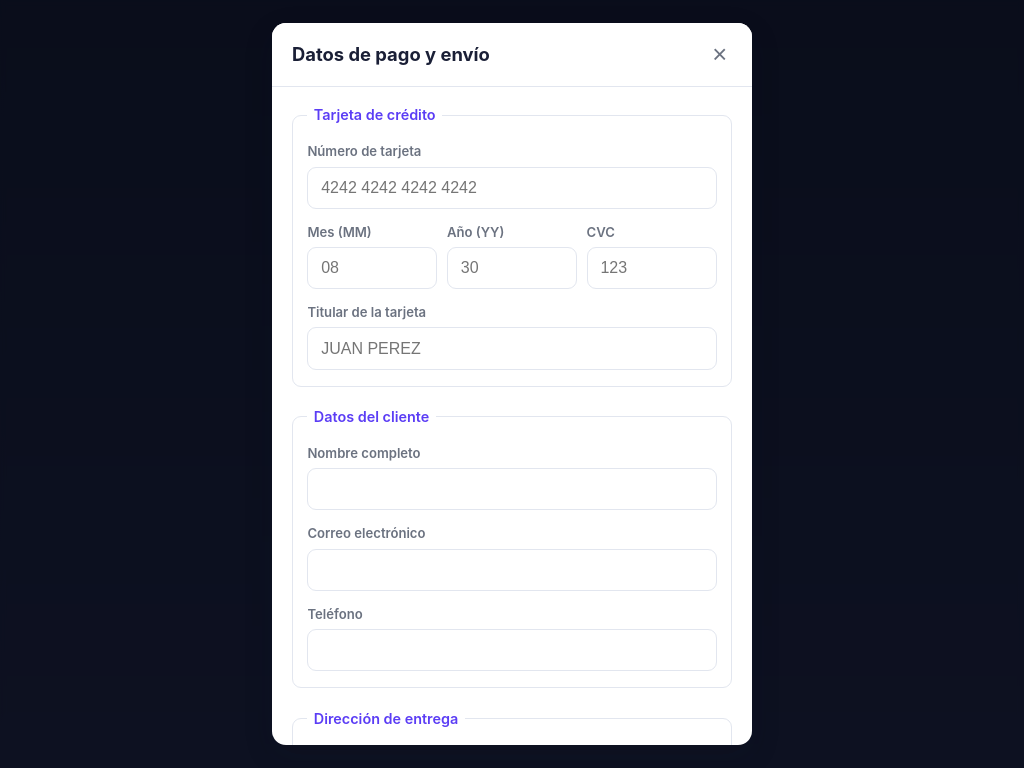
Test case: PaymentModal › detects the card brand while typing
Type "4242424242424242" into the field labelled "Número de tarjeta" at (512,188), box [307, 166, 717, 209]
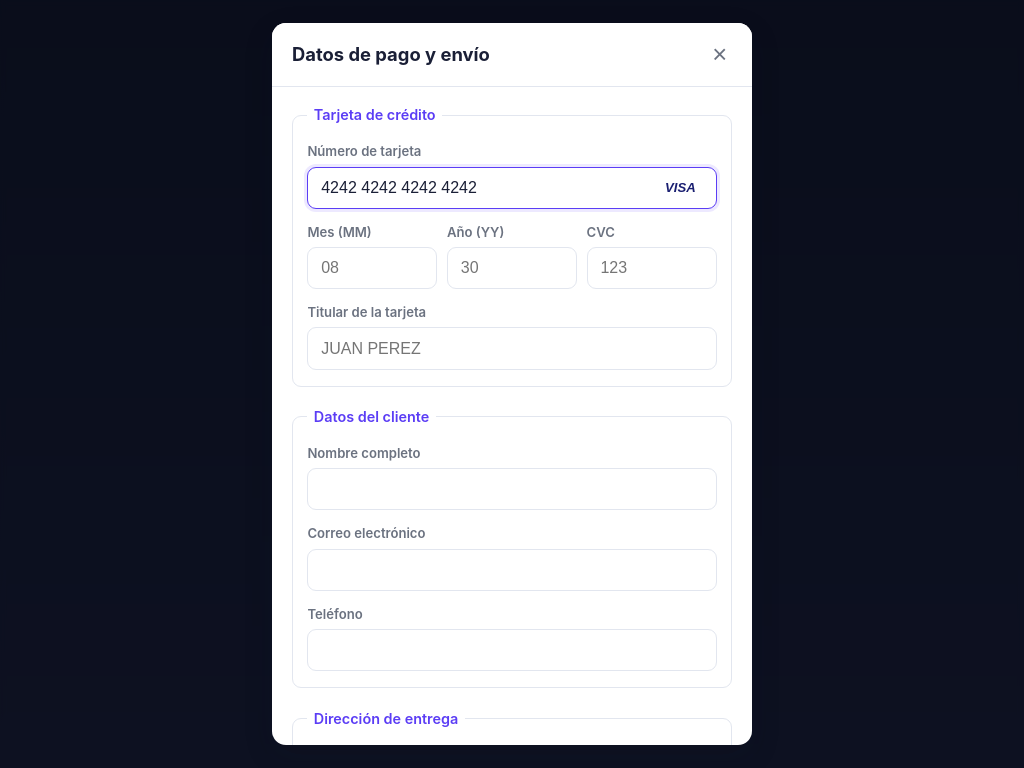
Result: the picture labelled "VISA" is shown at [665, 181, 707, 195]
